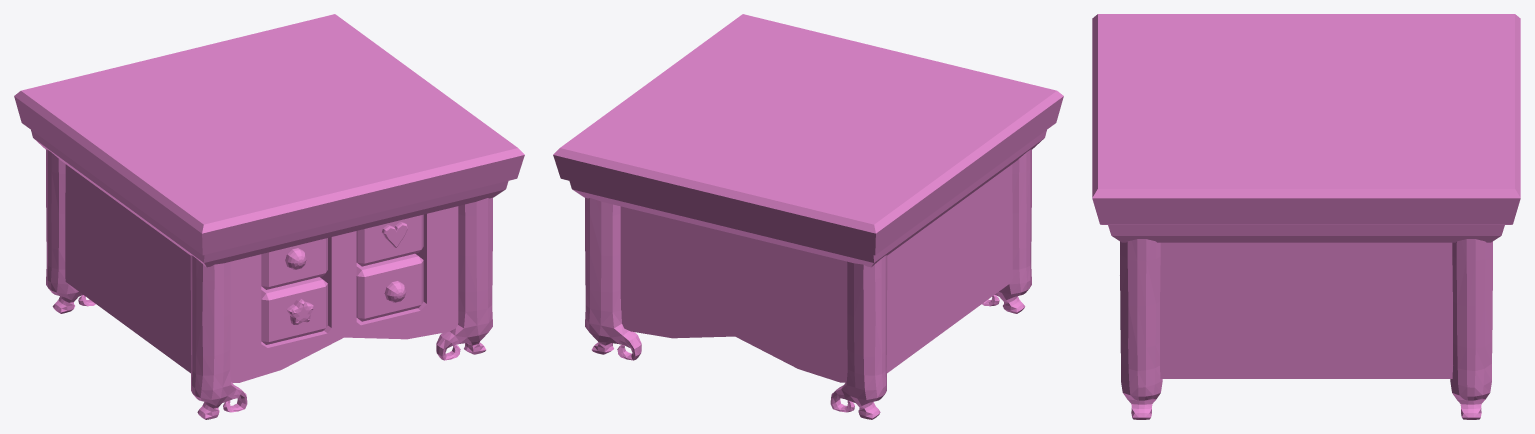
Rendered from ENV_HAU_WORKSTATION_MODEL.fbx.
3 views of the same model, side by side, from view 1: azimuth 30°, elevation 25°; view 2: azimuth 150°, elevation 25°; view 3: azimuth 270°, elevation 25° (orthographic). The views are drawn at different scales.
Visible parts, largest first — view 1: ENV_HAU_WORKSTATION_MODEL; view 2: ENV_HAU_WORKSTATION_MODEL; view 3: ENV_HAU_WORKSTATION_MODEL.
Part boxes in pixels (x1=…): ENV_HAU_WORKSTATION_MODEL: x1=14, y1=14, x2=524, y2=419; ENV_HAU_WORKSTATION_MODEL: x1=553, y1=14, x2=1063, y2=419; ENV_HAU_WORKSTATION_MODEL: x1=1092, y1=14, x2=1520, y2=419.
Size of the model in its own units: 98.78 by 61.77 by 99.6.
